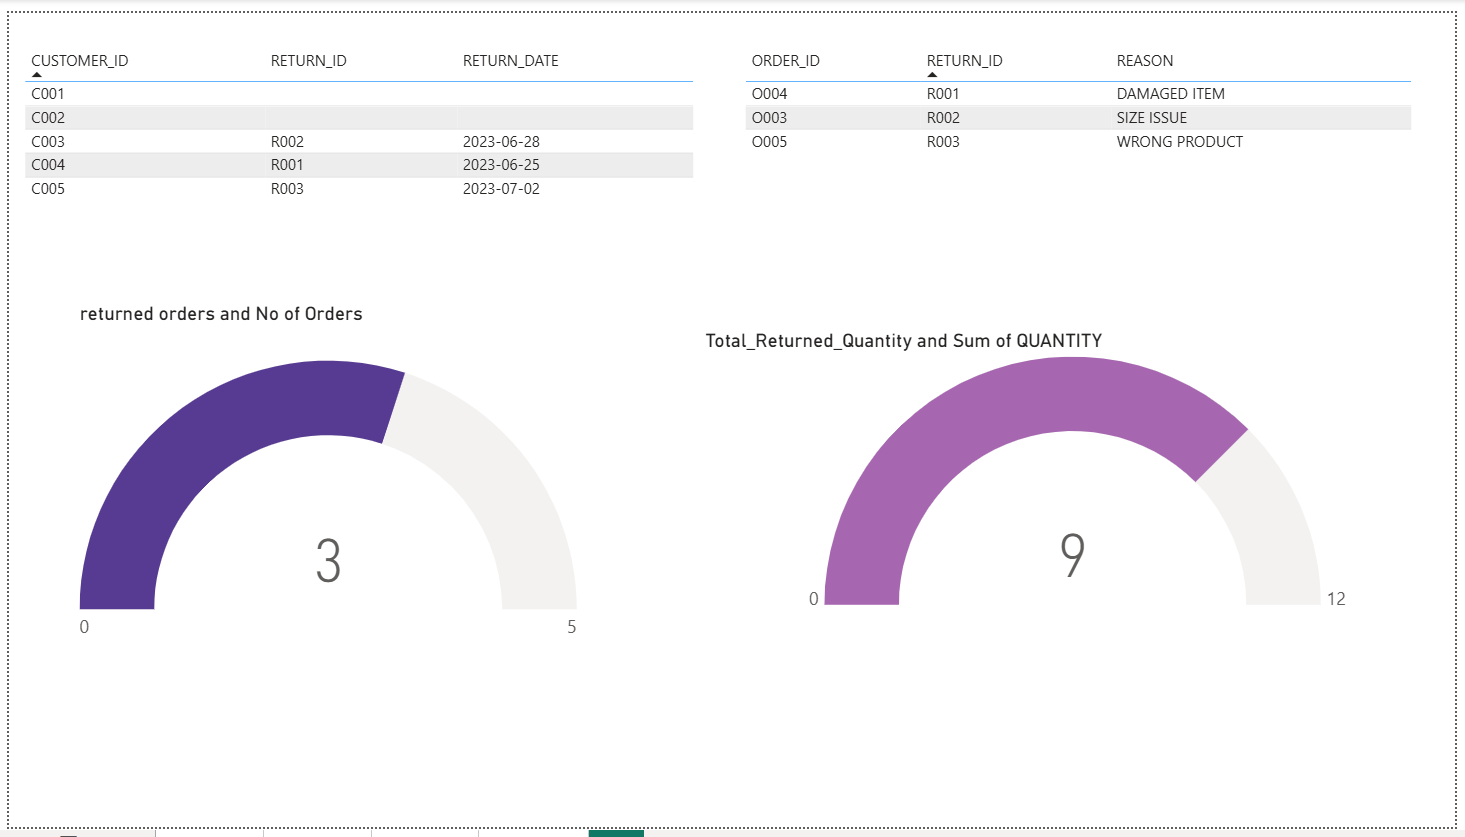

The page's visual inventory and layout, read from the dashboard file:
{"tool":"powerbi","page":{"name":"Page 4","canvas":[1280,720],"ordinal":2},"visuals":[{"type":"tableEx","fields":{"Values":["RETURNS.ORDER_ID","RETURNS.RETURN_ID","RETURNS.REASON"]},"box":[646.2,27.5,601.2,142.5],"z":0},{"type":"tableEx","fields":{"Values":["ORDERS.CUSTOMER_ID","RETURNS.RETURN_ID","RETURNS.RETURN_DATE"]},"box":[8.8,27.5,602.5,227.5],"z":1000},{"type":"gauge","fields":{"Y":["CUSTOMERS.total_returns"],"MaxValue":["Sum(ORDERS.QUANTITY)"]},"box":[611.2,280,668.8,253.8],"z":2000},{"type":"gauge","fields":{"MaxValue":["CUSTOMERS.No of Orders"],"Y":["CUSTOMERS.returned orders"]},"box":[57.5,256.2,450,335],"z":2001}]}

Visuals, with their boxes in screenshot pixels (x1, y1, x2, y2), scaled from the page's 1280x720 canvas onto the 1465x837 screenshot:
tableEx - RETURNS.ORDER_ID x RETURNS.RETURN_ID: pyautogui.locateOnScreen(740, 32, 1428, 198)
tableEx - ORDERS.CUSTOMER_ID x RETURNS.RETURN_ID: pyautogui.locateOnScreen(10, 32, 700, 296)
gauge - CUSTOMERS.total_returns x Sum(ORDERS.QUANTITY): pyautogui.locateOnScreen(700, 326, 1464, 621)
gauge - CUSTOMERS.No of Orders x CUSTOMERS.returned orders: pyautogui.locateOnScreen(66, 298, 581, 687)
